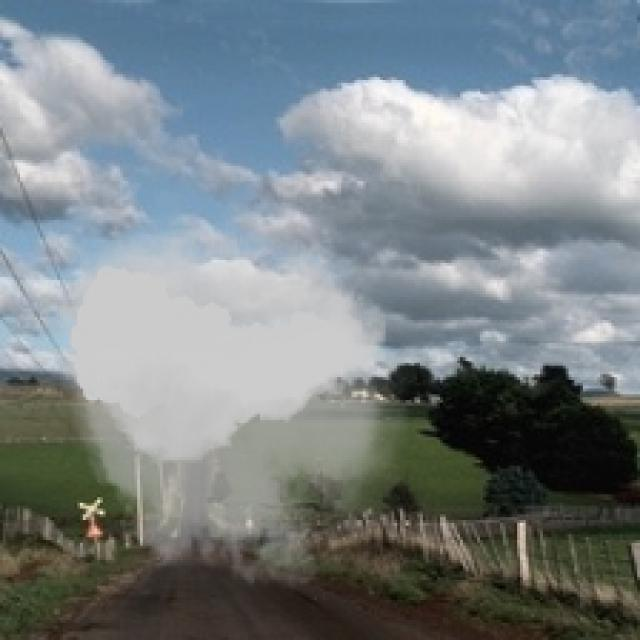smoke: (46, 197, 408, 609)
